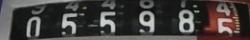digits: (178, 8, 195, 32), (61, 12, 78, 34), (99, 10, 116, 32), (138, 10, 155, 32), (25, 16, 41, 37), (216, 17, 233, 33)
